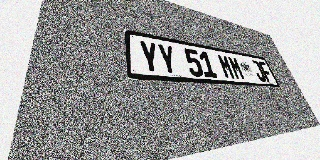1: (197, 50, 218, 78)
5: (184, 48, 205, 77)
F: (258, 61, 274, 82)
J: (250, 60, 267, 82)
M: (217, 54, 236, 79), (227, 56, 246, 80)
Y: (138, 40, 161, 74), (156, 43, 179, 75)
